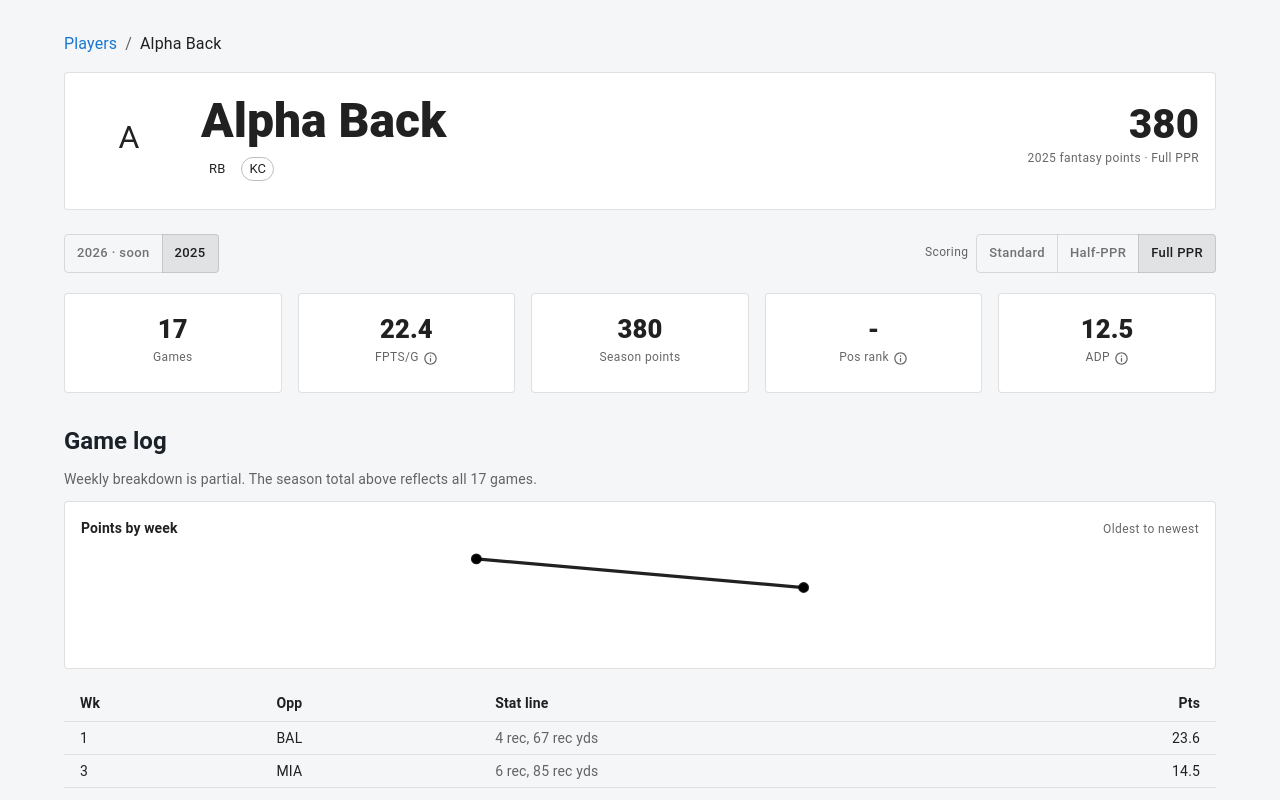
Test case: defaults to the active league scoring format without recalculating points
The width and height of the screenshot is (1280, 800).
Expected: the text "2025 fantasy points · Full PPR" is shown, left=1028, top=151, right=1199, bottom=165
Expected: the 1st text "380" is shown, left=1129, top=101, right=1199, bottom=148
Step 1. Click the button "Standard" → (1017, 253), box left=976, top=234, right=1058, bottom=273
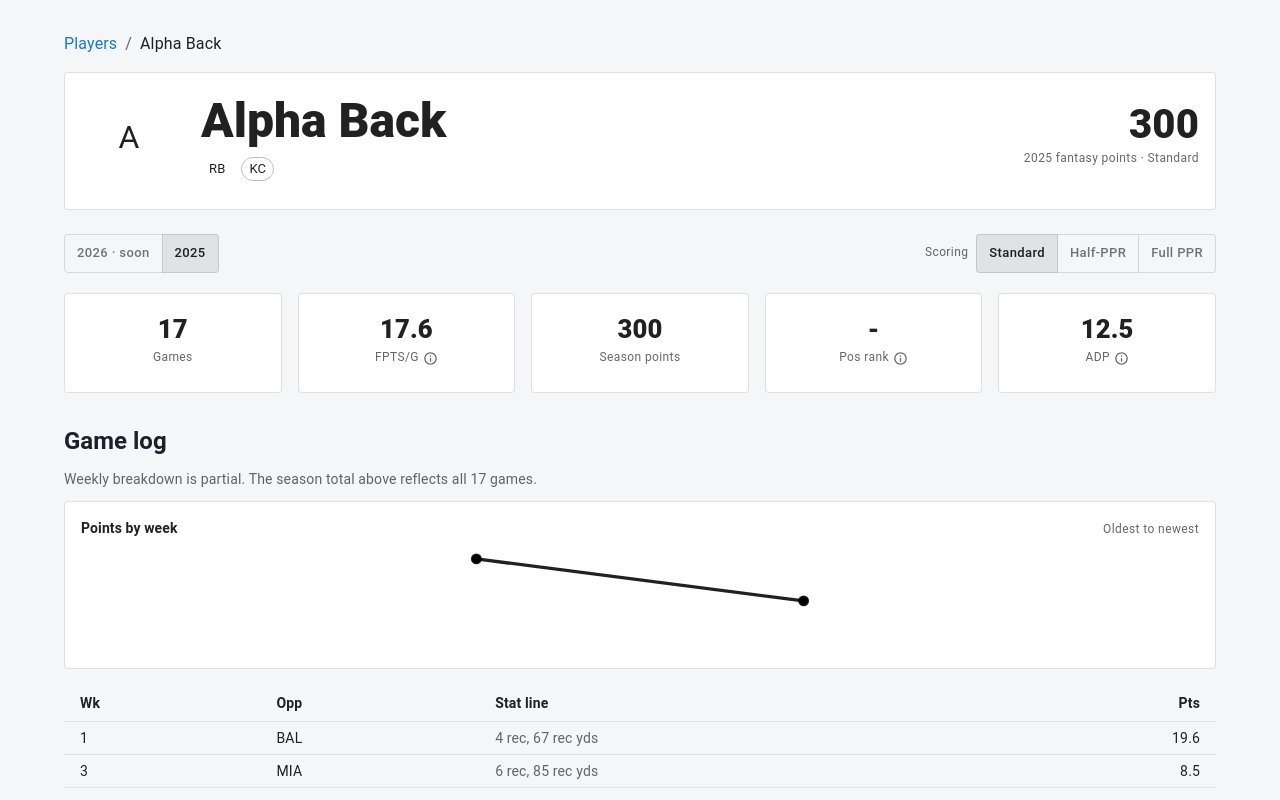
Expected: the 1st text "300" is shown, left=1129, top=101, right=1199, bottom=148
